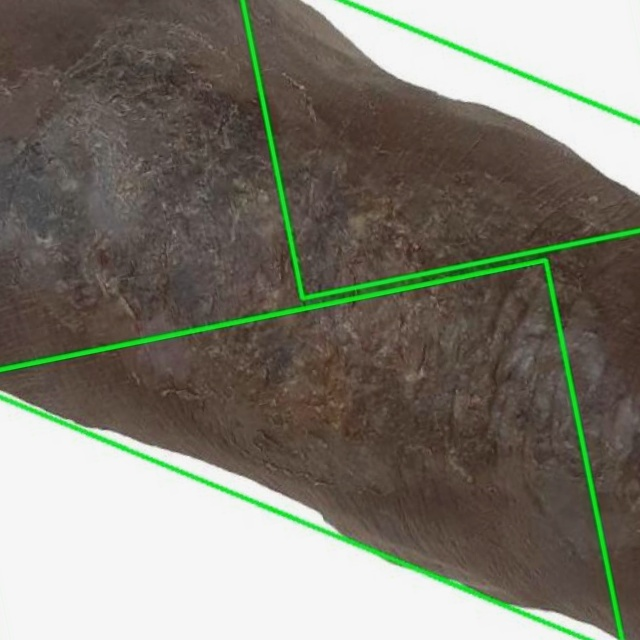Contact Dermatitis: (0, 0, 639, 593), (0, 260, 621, 639), (242, 0, 639, 298)
